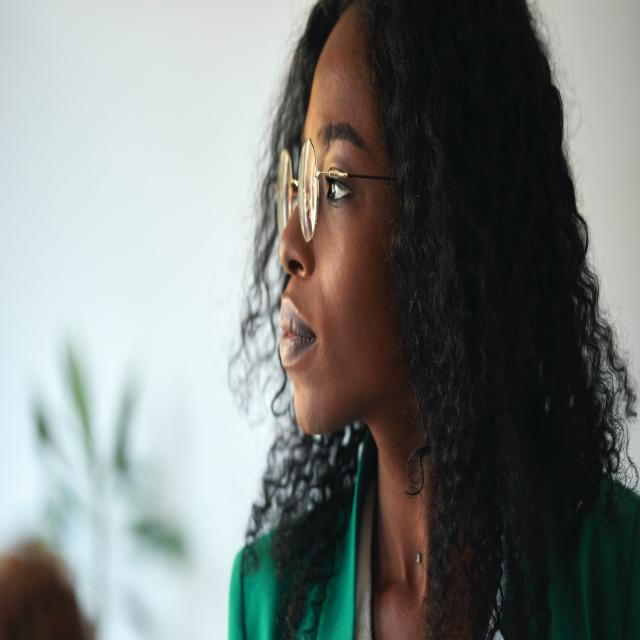sem_oculos: (264, 134, 424, 230)
